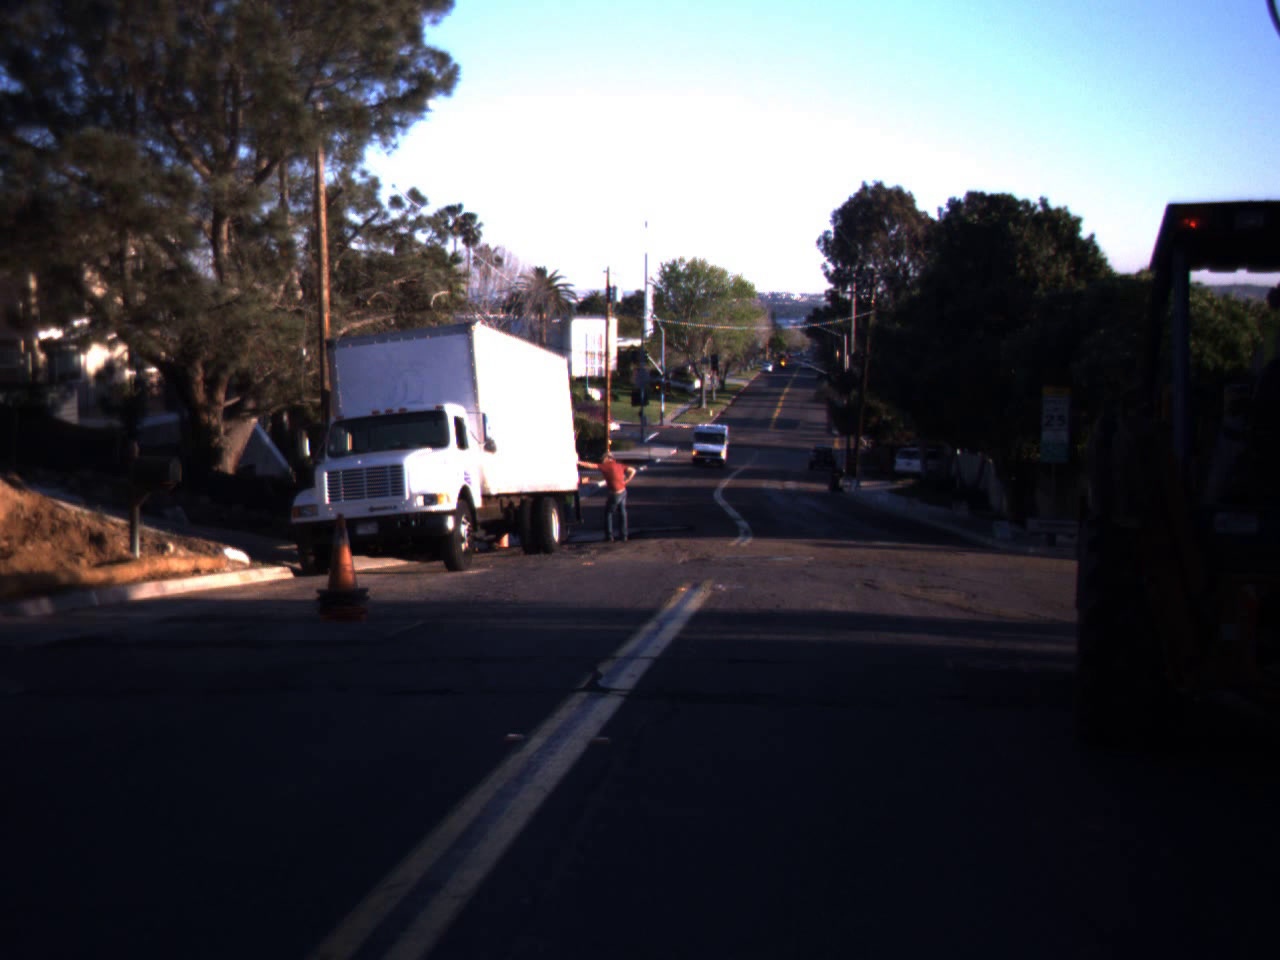warning: (772, 353, 793, 371), (650, 377, 665, 395)
